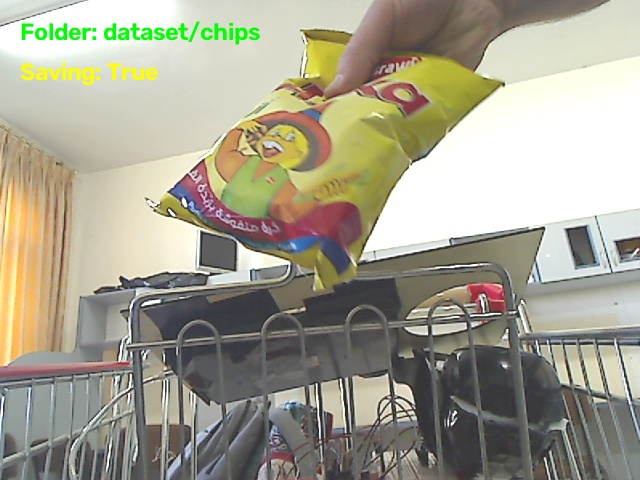chips: (154, 31, 501, 288)
